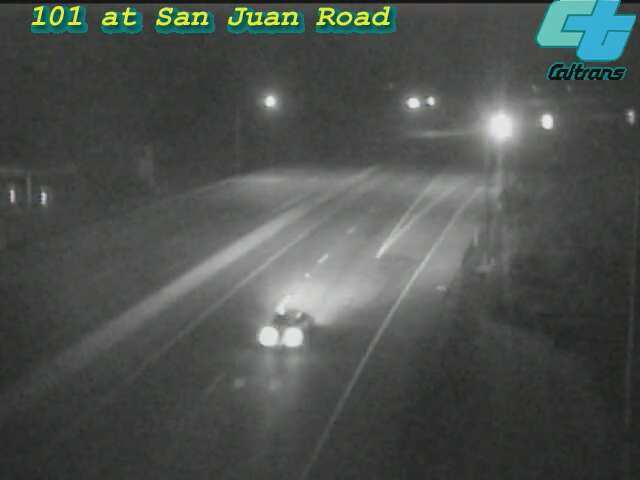vehicle: (236, 271, 346, 381), (471, 101, 521, 151), (520, 96, 570, 146)
